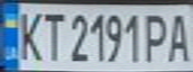1: (121, 10, 145, 62), (87, 10, 106, 63)
2: (66, 9, 90, 63)
9: (103, 10, 127, 63)
A: (163, 9, 193, 63)
K: (12, 7, 45, 62)
P: (142, 10, 172, 63)
T: (39, 8, 66, 62)
